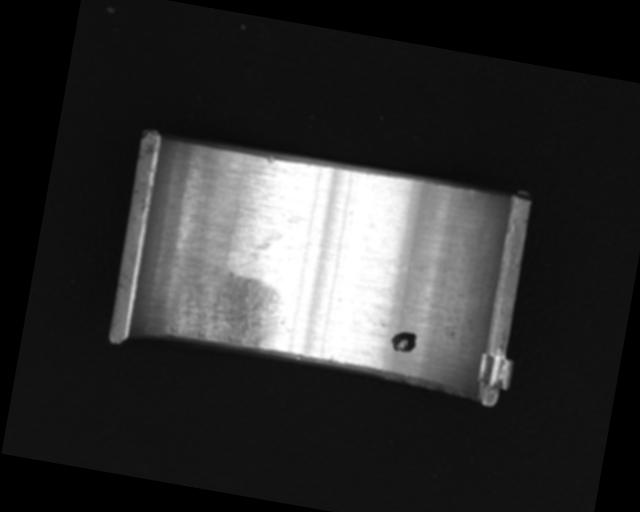blot: (388, 329, 419, 355)
bruise: (264, 154, 276, 166)
scratch: (160, 260, 294, 354)
